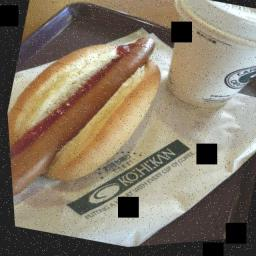hotdog: (0, 0, 183, 232)
